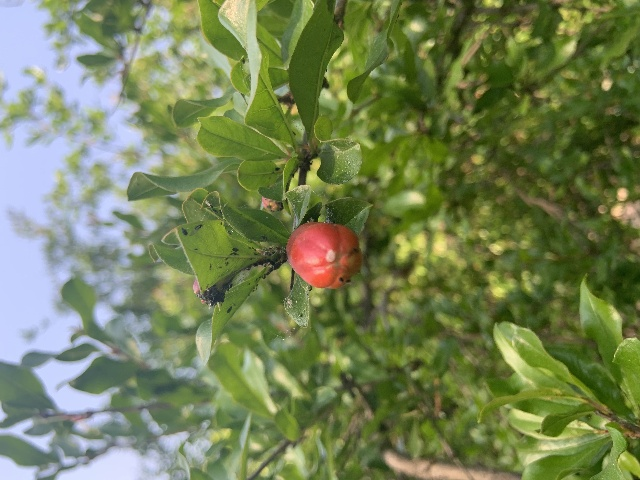bud: (287, 222, 361, 289)
